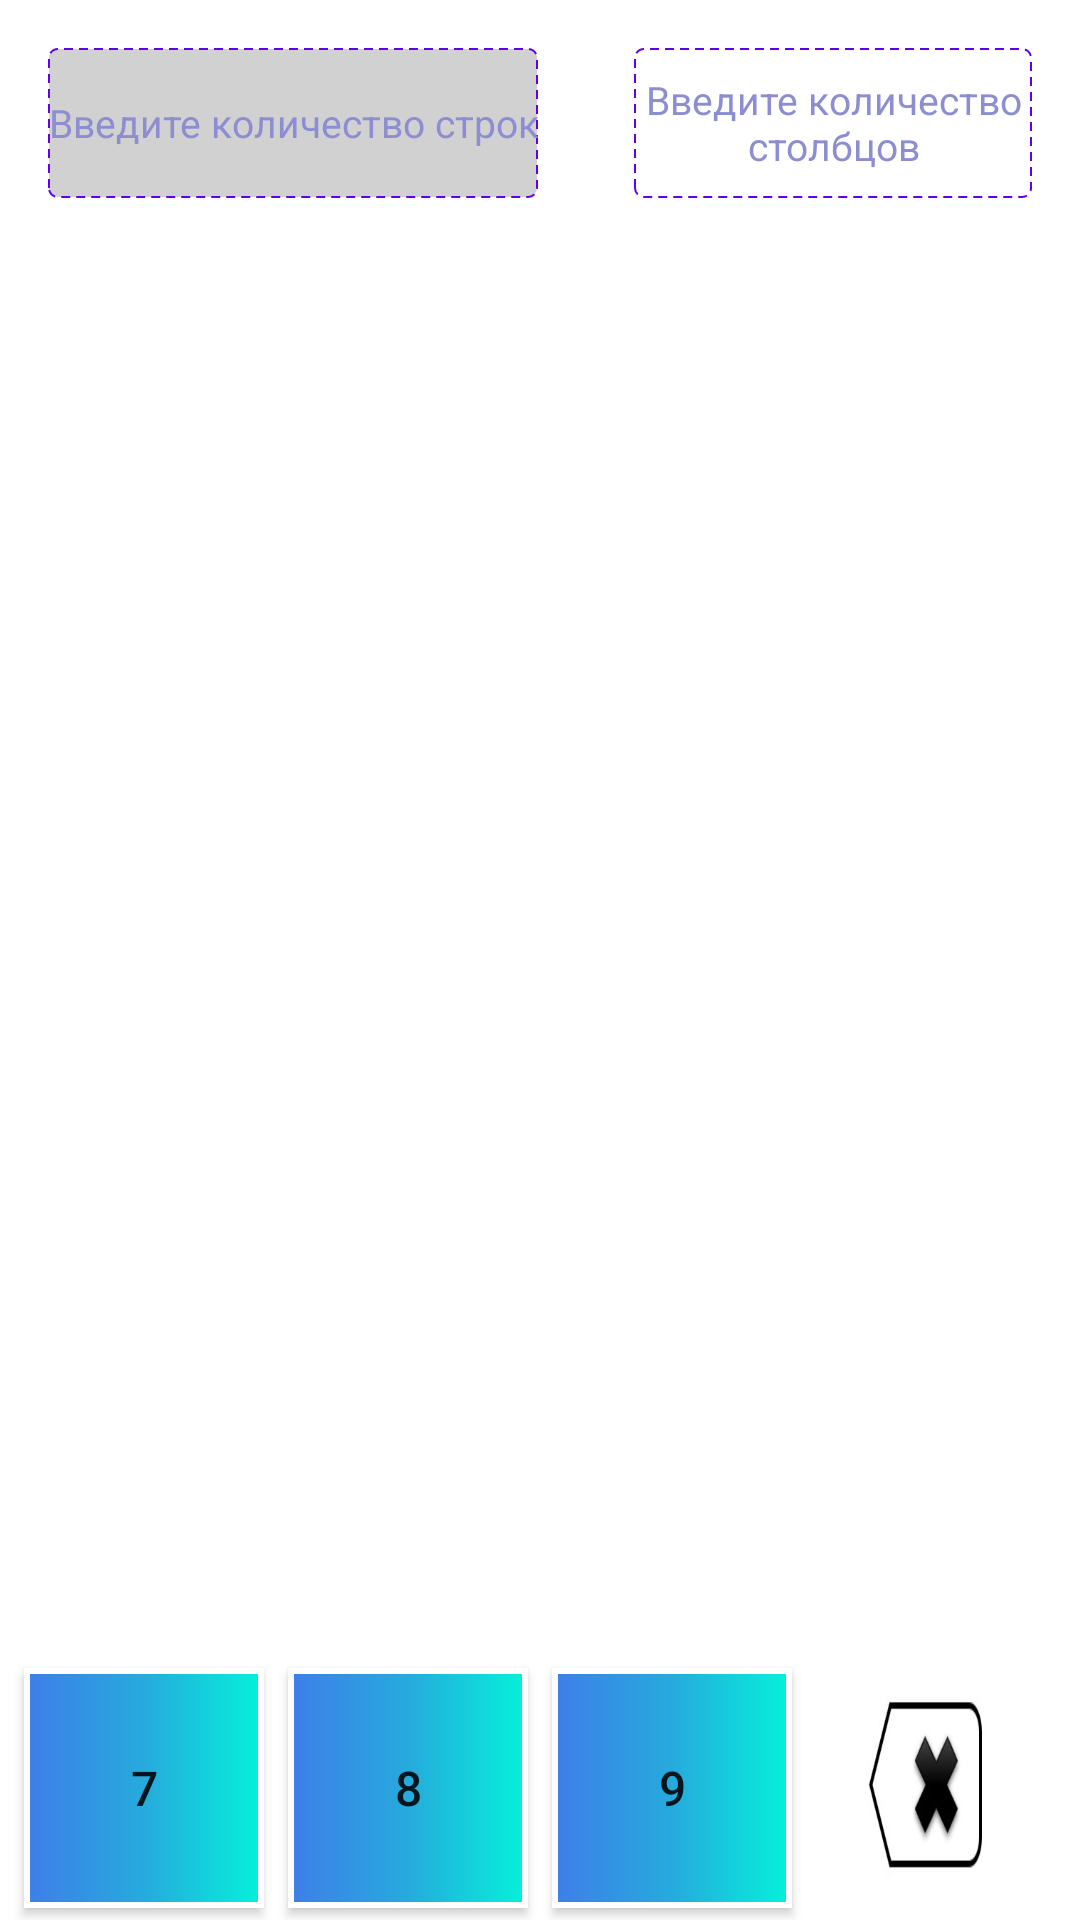

Point at icon controls on the screen. Image size 1080×1920, points as [x,y].
clear: [925,1785]
